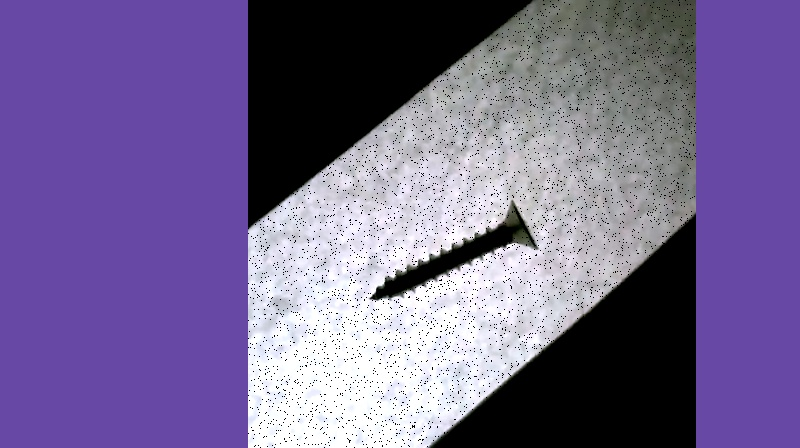S001: (366, 197, 539, 304)
